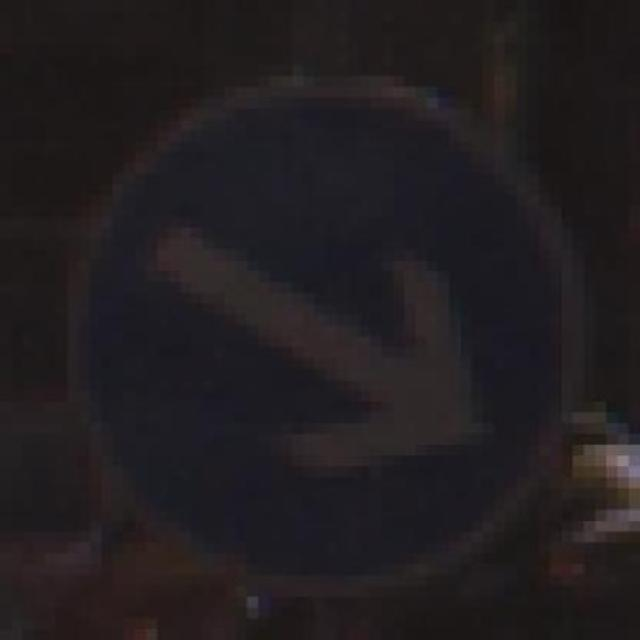Keep-Right: (44, 76, 562, 564)
